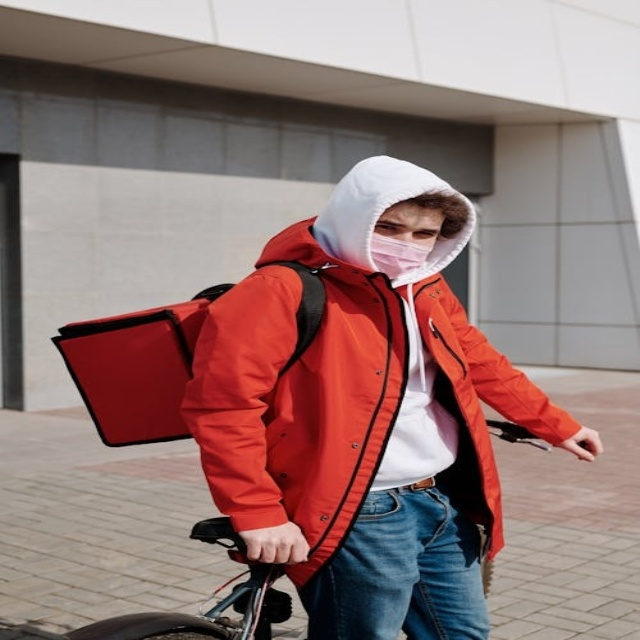Mascara: (366, 230, 435, 279)
Sin_gafas: (374, 220, 441, 242)
Sin_guantes: (224, 515, 315, 568), (556, 422, 609, 467)
